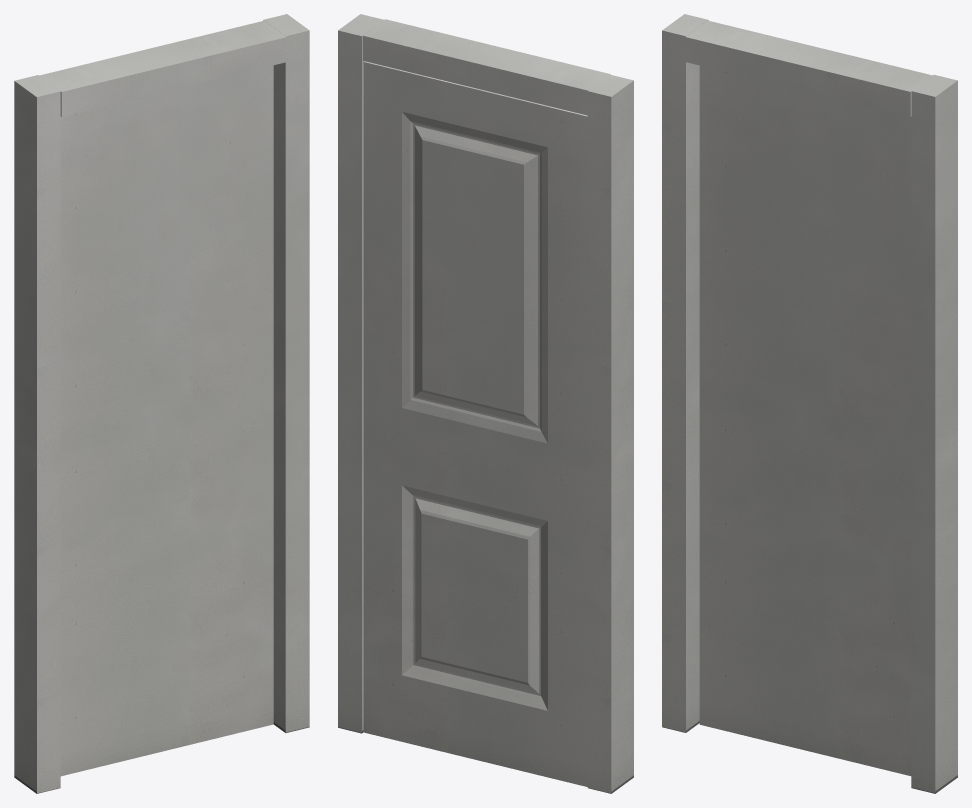
The model's file is Door2.fbx.
3 renders of one model, left to right at view 1: azimuth 30°, elevation 25°; view 2: azimuth 150°, elevation 25°; view 3: azimuth 330°, elevation 25°, orthographic.
Visible parts, largest first — view 1: polySurface802; view 2: polySurface802; view 3: polySurface802.
Boxes of the visible parts, x1=… form: polySurface802: x1=14, y1=14, x2=309, y2=793; polySurface802: x1=338, y1=14, x2=633, y2=793; polySurface802: x1=662, y1=14, x2=957, y2=793.
Bounding box in the file's own units: 0.8667 × 2.11 × 0.1292.
Materials: 1 (1 with a texture image).
